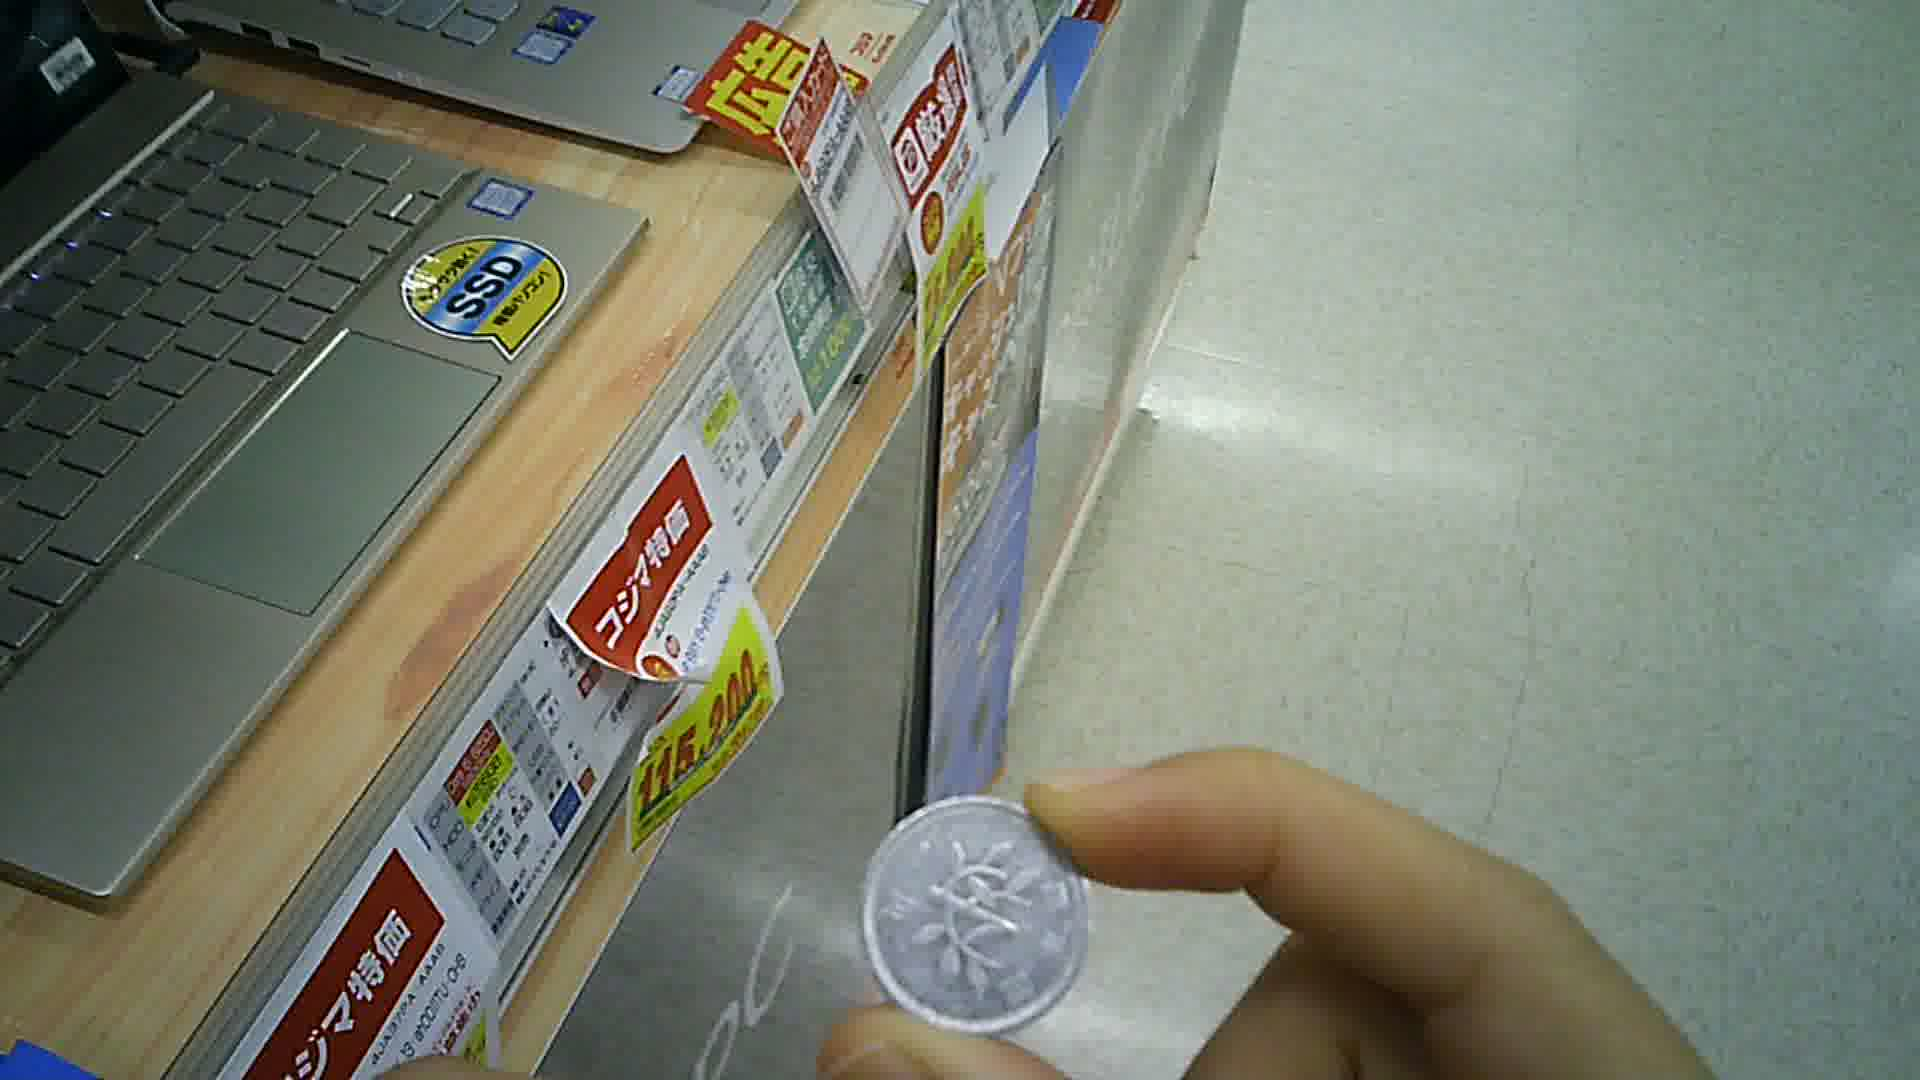1 Yen: (858, 799, 1098, 1030)
